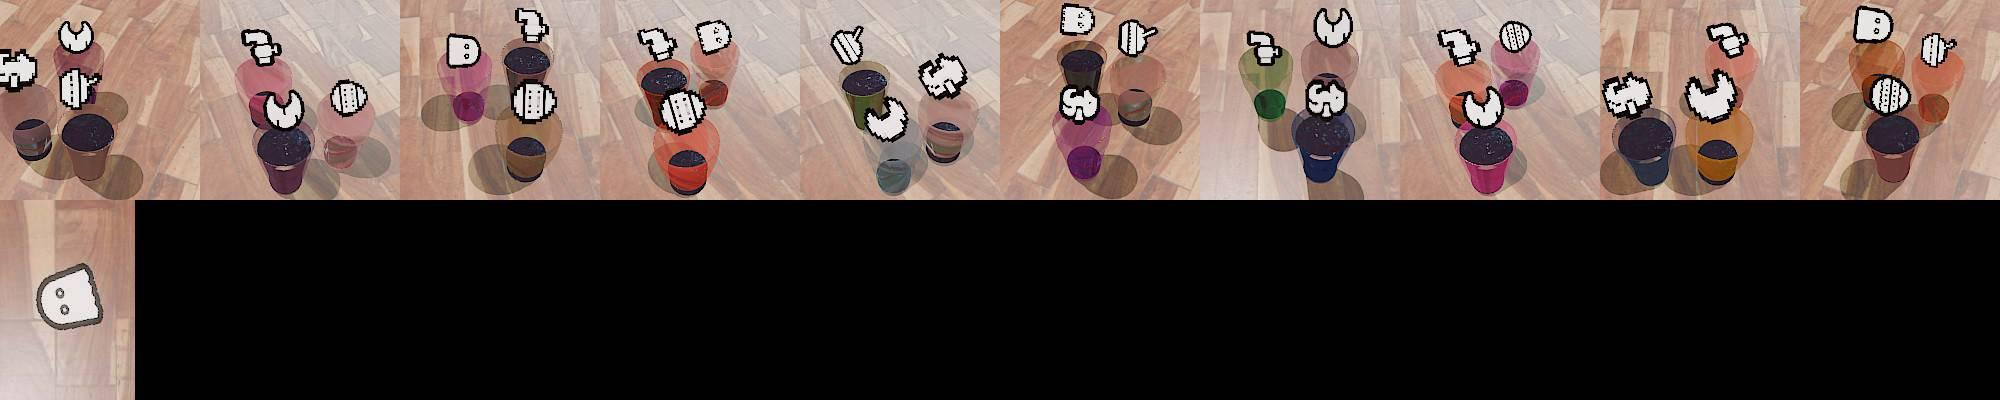icon: (33, 262, 105, 332), (1681, 68, 1739, 122), (1601, 71, 1653, 117), (658, 88, 709, 134), (918, 52, 967, 99), (862, 94, 909, 143), (510, 79, 559, 124), (1459, 83, 1505, 127), (1304, 74, 1348, 118), (261, 87, 306, 130), (1867, 73, 1912, 116), (57, 66, 101, 110), (1436, 27, 1482, 66), (1312, 6, 1353, 48), (241, 28, 283, 68), (1852, 4, 1894, 43), (0, 48, 38, 92), (1117, 18, 1158, 57), (1060, 84, 1101, 124), (1707, 22, 1749, 60), (829, 24, 866, 65), (636, 27, 679, 62), (329, 79, 369, 116), (1918, 32, 1958, 69), (514, 8, 551, 46), (1246, 29, 1283, 66), (694, 19, 732, 55), (445, 33, 482, 69), (57, 19, 94, 55), (1060, 3, 1097, 37), (1497, 19, 1533, 54)
